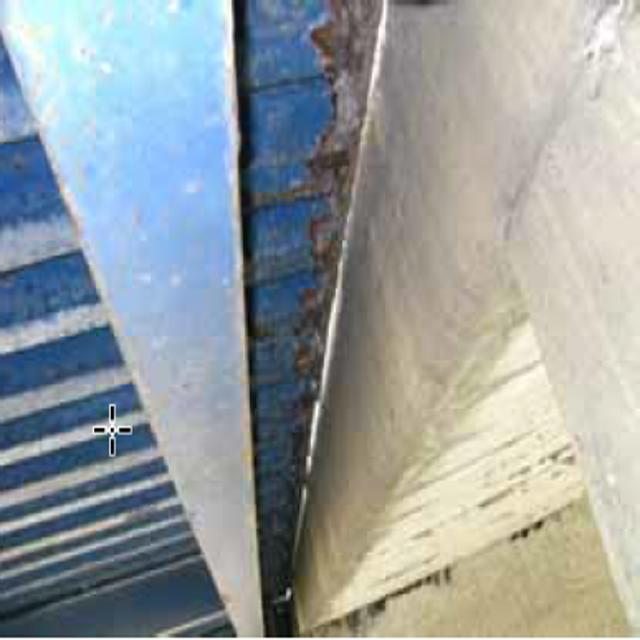corrosion: (257, 16, 374, 523)
